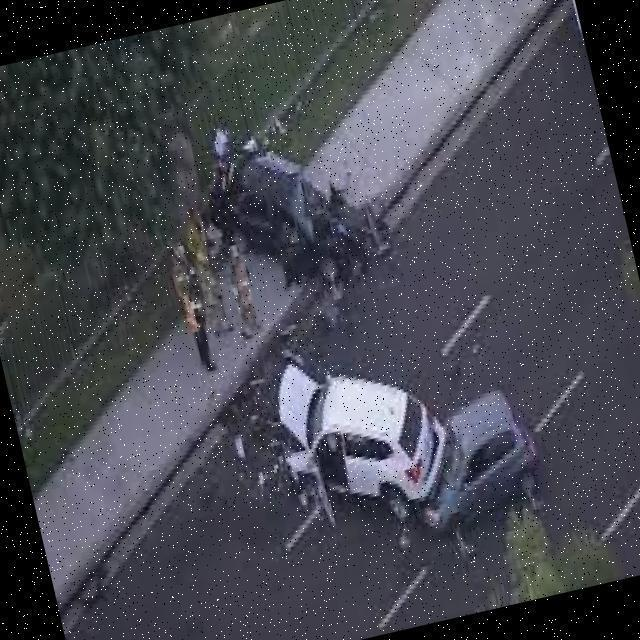accident: (224, 305, 573, 584), (180, 82, 403, 334)
